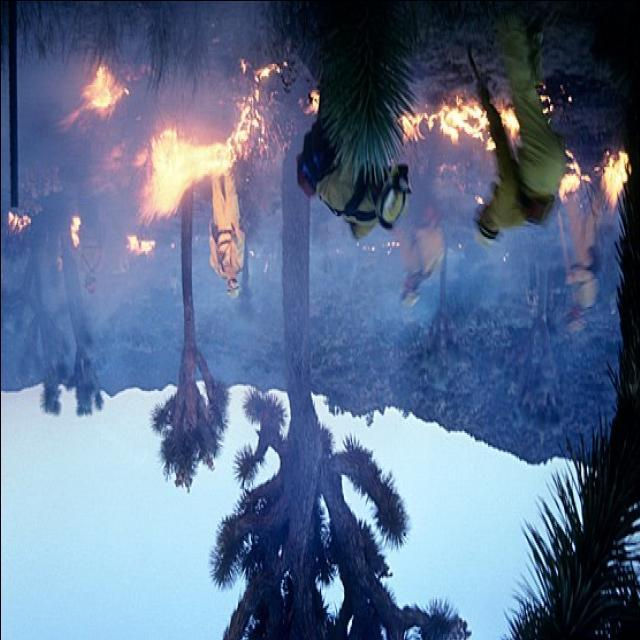Fire: (61, 63, 632, 226)
